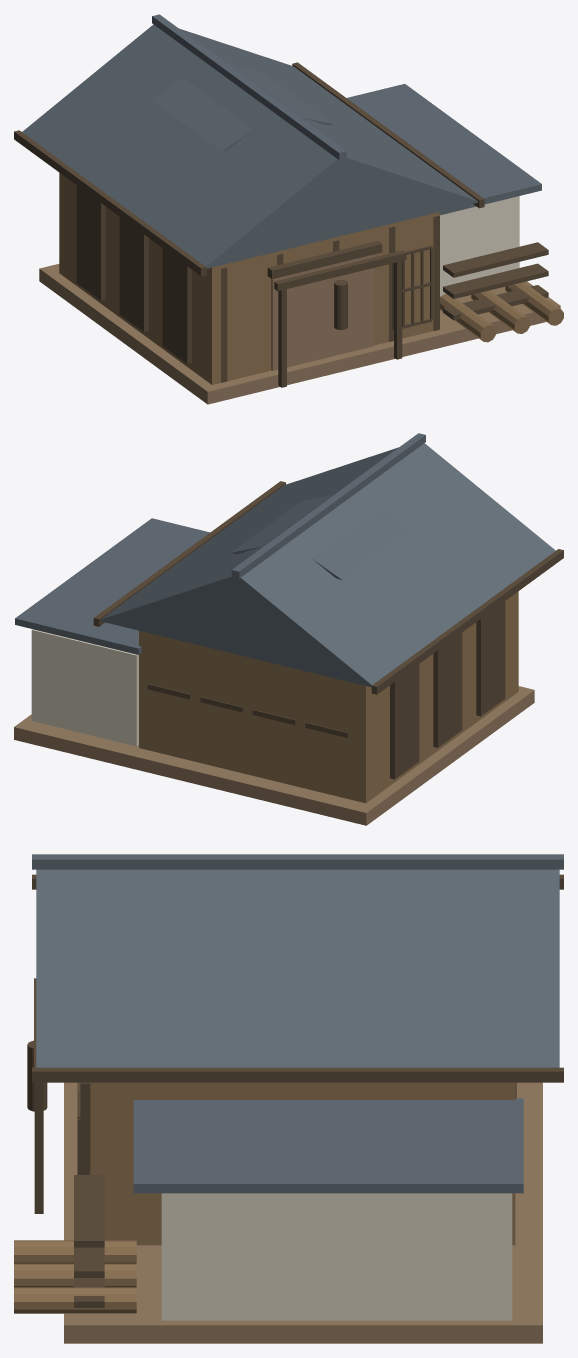
File: asset_proof_workshop.glb
3 views of the same model, one above another, from view 1: azimuth 30°, elevation 25°; view 2: azimuth 150°, elevation 25°; view 3: azimuth 270°, elevation 25° (orthographic). The views are drawn at different scales.
Parts seen in each view (by area): view 1: work_gable, work_hall, work_plinth, work_lean_roof, work_open_dark, work_lean_body, work_monitor_roof, work_side_brace, work_side_brace.001, work_side_brace.002, work_ridge_cap, work_eave_left (+15 smaller); view 2: work_gable, work_hall, work_plinth, work_lean_body, work_lean_roof, work_monitor_roof, work_side_brace.002, work_side_brace, work_side_brace.001, work_ridge_cap, work_eave_left, work_eave_right; view 3: work_gable, work_lean_body, work_lean_roof, work_plinth, work_hall, work_monitor_roof, work_eave_right, work_ridge_cap, work_log_2, work_log_1, work_rack_2, work_log_0 (+5 smaller).
Boxes of the visible parts, left/top/right/bottom form: work_gable: left=22, top=24, right=477, bottom=268; work_hall: left=59, top=173, right=439, bottom=384; work_plinth: left=39, top=264, right=560, bottom=404; work_lean_roof: left=347, top=84, right=541, bottom=215; work_open_dark: left=271, top=254, right=374, bottom=370; work_lean_body: left=440, top=196, right=519, bottom=296; work_monitor_roof: left=151, top=66, right=333, bottom=151; work_side_brace: left=162, top=248, right=191, bottom=363; work_side_brace.001: left=119, top=217, right=148, bottom=332; work_side_brace.002: left=76, top=185, right=105, bottom=300; work_ridge_cap: left=152, top=14, right=346, bottom=159; work_eave_left: left=14, top=130, right=206, bottom=276; work_gable: left=100, top=443, right=555, bottom=687; work_hall: left=139, top=591, right=518, bottom=803; work_plinth: left=14, top=686, right=534, bottom=825; work_lean_body: left=31, top=629, right=138, bottom=746; work_lean_roof: left=15, top=518, right=209, bottom=654; work_monitor_roof: left=231, top=494, right=412, bottom=579; work_side_brace.002: left=390, top=664, right=419, bottom=779; work_side_brace: left=476, top=601, right=505, bottom=716; work_side_brace.001: left=433, top=633, right=462, bottom=747; work_ridge_cap: left=231, top=433, right=425, bottom=578; work_eave_left: left=371, top=549, right=563, bottom=694; work_eave_right: left=93, top=481, right=285, bottom=626; work_gable: left=36, top=869, right=559, bottom=1067; work_lean_body: left=161, top=1193, right=512, bottom=1320; work_lean_roof: left=133, top=1098, right=523, bottom=1193; work_plinth: left=64, top=1082, right=542, bottom=1343; work_hall: left=81, top=1082, right=515, bottom=1245; work_monitor_roof: left=217, top=900, right=417, bottom=943; work_eave_right: left=32, top=1067, right=563, bottom=1082; work_ridge_cap: left=32, top=854, right=563, bottom=869; work_log_2: left=14, top=1287, right=136, bottom=1313; work_log_1: left=14, top=1263, right=136, bottom=1287; work_rack_2: left=74, top=1175, right=104, bottom=1247; work_log_0: left=14, top=1240, right=136, bottom=1263.
Bounding box in the file's own units: 11.11 × 6.49 × 9.88.
